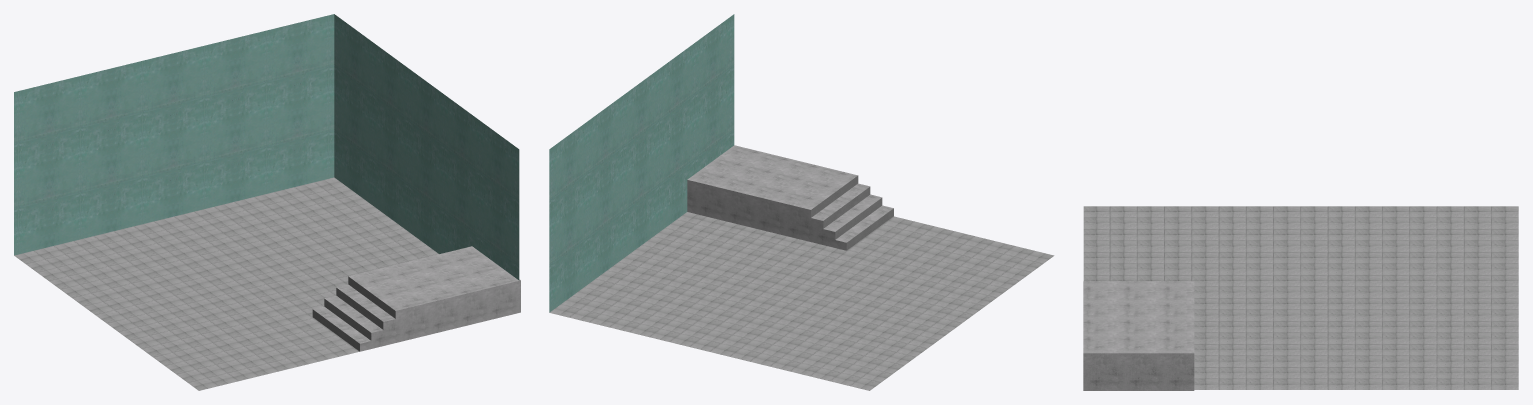
File: example.glb
The picture shows the model from 3 angles, left to right: view 1: azimuth 30°, elevation 25°; view 2: azimuth 150°, elevation 25°; view 3: azimuth 270°, elevation 25°; orthographic projection. The views are drawn at different scales.
Visible parts, largest first — view 1: obj3, obj1, obj4, obj2; view 2: obj1, obj3, obj4, obj2; view 3: obj1, obj4.
Boxes of the visible parts, box(x1,y1,x2,y2) form: obj3: box(14, 14, 519, 280); obj1: box(14, 177, 438, 390); obj4: box(313, 246, 520, 351); obj2: box(312, 276, 395, 351); obj1: box(549, 212, 1054, 390); obj3: box(549, 14, 734, 312); obj4: box(687, 145, 893, 250); obj2: box(811, 175, 893, 250); obj1: box(1083, 206, 1518, 389); obj4: box(1083, 281, 1194, 390).
Bounding box in the file's own units: 448 × 217 × 446.
Materials: 4 (4 with a texture image).
